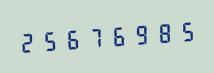eight: (149, 17, 170, 48)
five: (39, 24, 60, 56), (171, 15, 192, 46)
nine: (127, 18, 148, 50)
seven: (83, 21, 104, 53)
six: (61, 23, 82, 54), (105, 20, 126, 51)
two: (17, 26, 38, 57)
